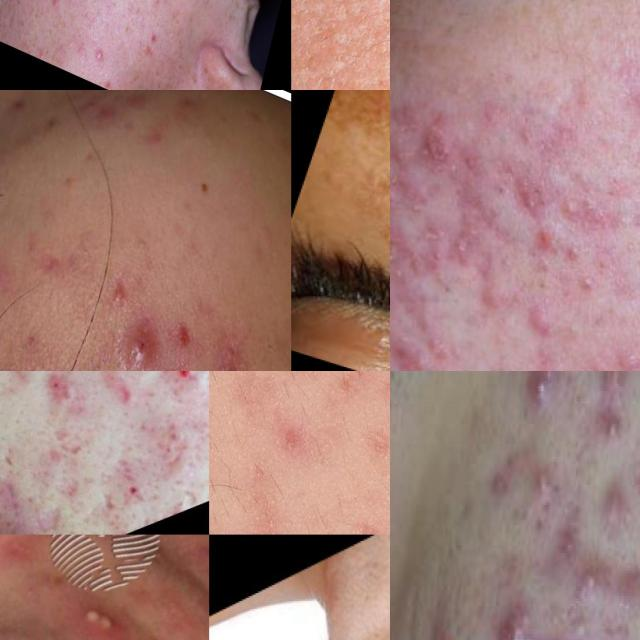acne_scars: (32, 240, 71, 292)
comedone: (113, 204, 176, 278), (572, 266, 607, 306), (559, 190, 585, 232)
cystic: (108, 299, 170, 371)
keloid: (0, 450, 33, 530), (96, 441, 144, 495), (25, 497, 65, 535), (51, 471, 84, 505)
papule: (425, 108, 463, 181), (523, 304, 558, 344), (133, 38, 160, 66), (390, 221, 404, 272), (46, 0, 68, 17)
pustule: (69, 584, 125, 640), (526, 454, 569, 520), (600, 406, 626, 467), (576, 556, 606, 606), (107, 273, 135, 314), (600, 371, 634, 396), (87, 31, 109, 69), (633, 450, 640, 506), (546, 626, 570, 640)
sebo-crystan-conglo: (491, 578, 550, 640), (521, 371, 573, 424), (0, 513, 43, 534)
